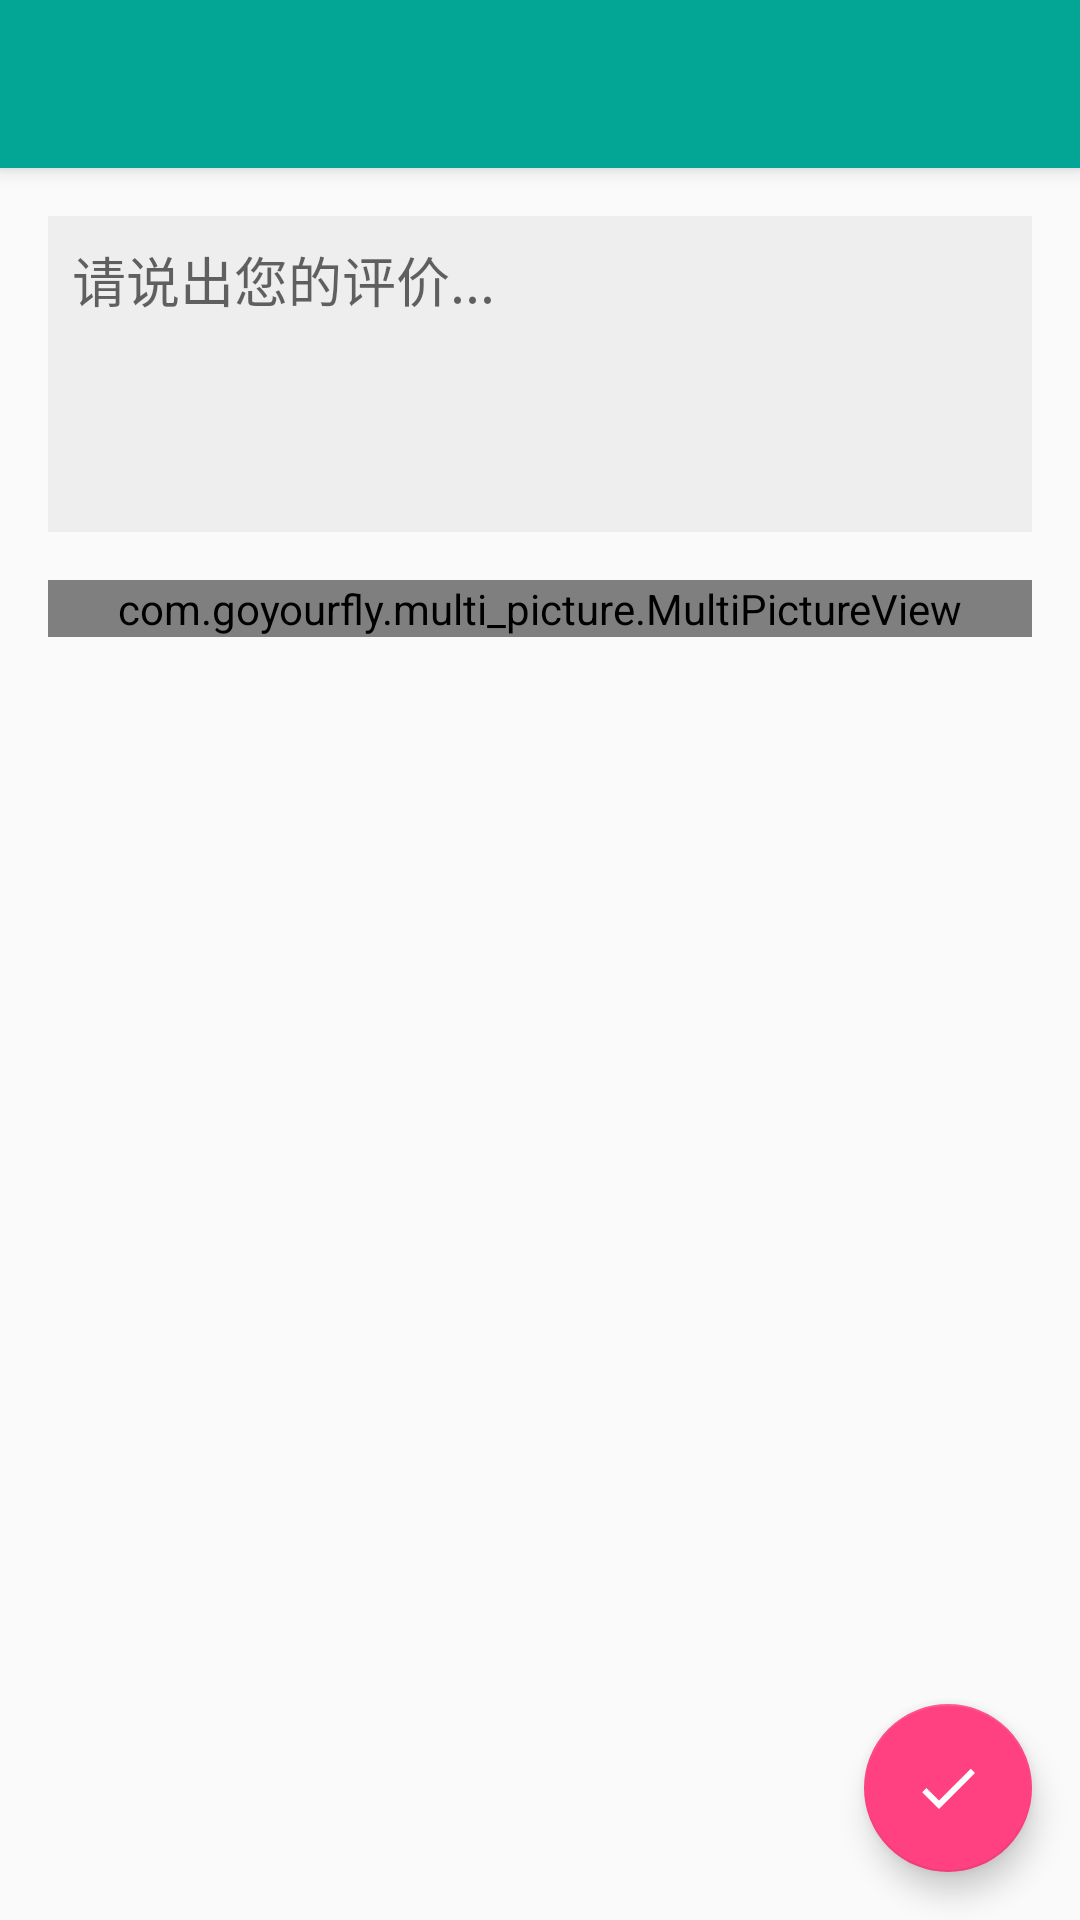

Where to tap for icons on this 1080px×1920px app screen, as [x,y]:
done: [948,1788]
